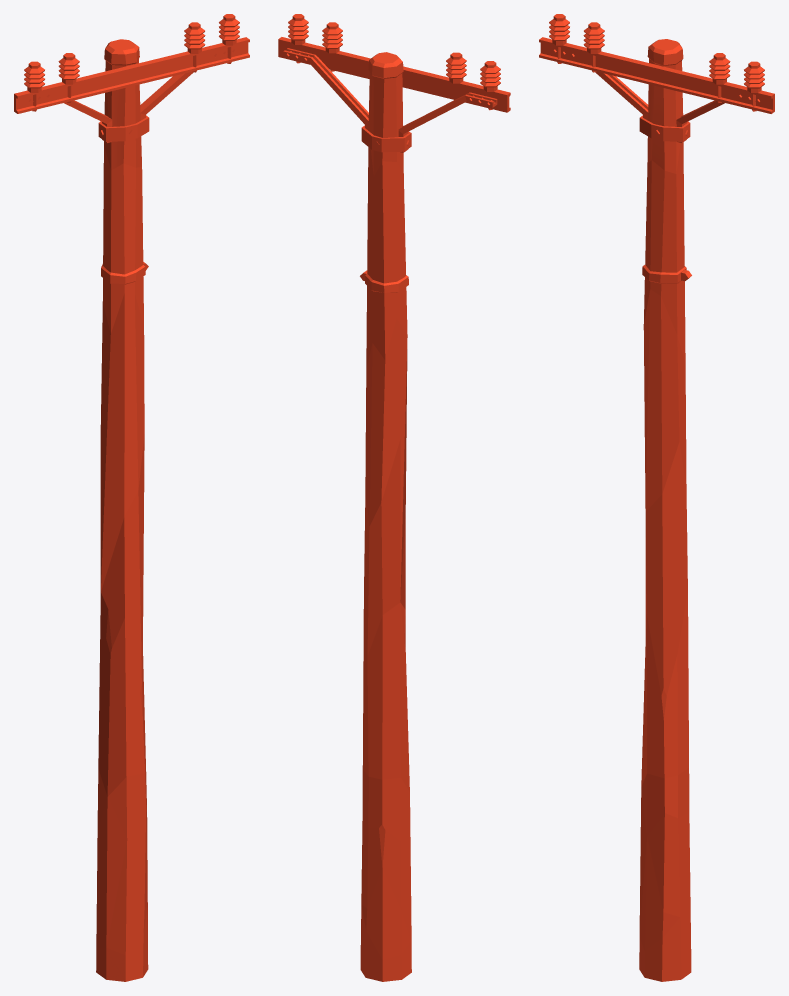
File: SM_Pole_Electric_Double_A_City.fbx
The picture shows the model from 3 angles, left to right: view 1: azimuth 30°, elevation 25°; view 2: azimuth 150°, elevation 25°; view 3: azimuth 330°, elevation 25°; orthographic projection.
Visible parts, largest first — view 1: SM_Pole_Electric_Double_A_City; view 2: SM_Pole_Electric_Double_A_City; view 3: SM_Pole_Electric_Double_A_City.
Part boxes in pixels (x1,y1,x2,y2): SM_Pole_Electric_Double_A_City: (14,14,249,981); SM_Pole_Electric_Double_A_City: (278,14,510,981); SM_Pole_Electric_Double_A_City: (539,14,774,981).
Bounding box in the file's own units: 1.78 × 6.88 × 0.3538.
